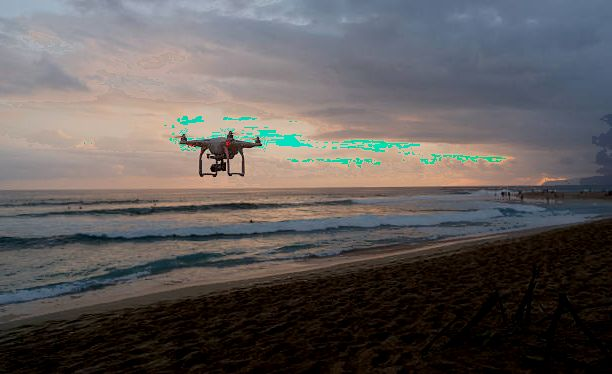Drone: (166, 129, 266, 176)
